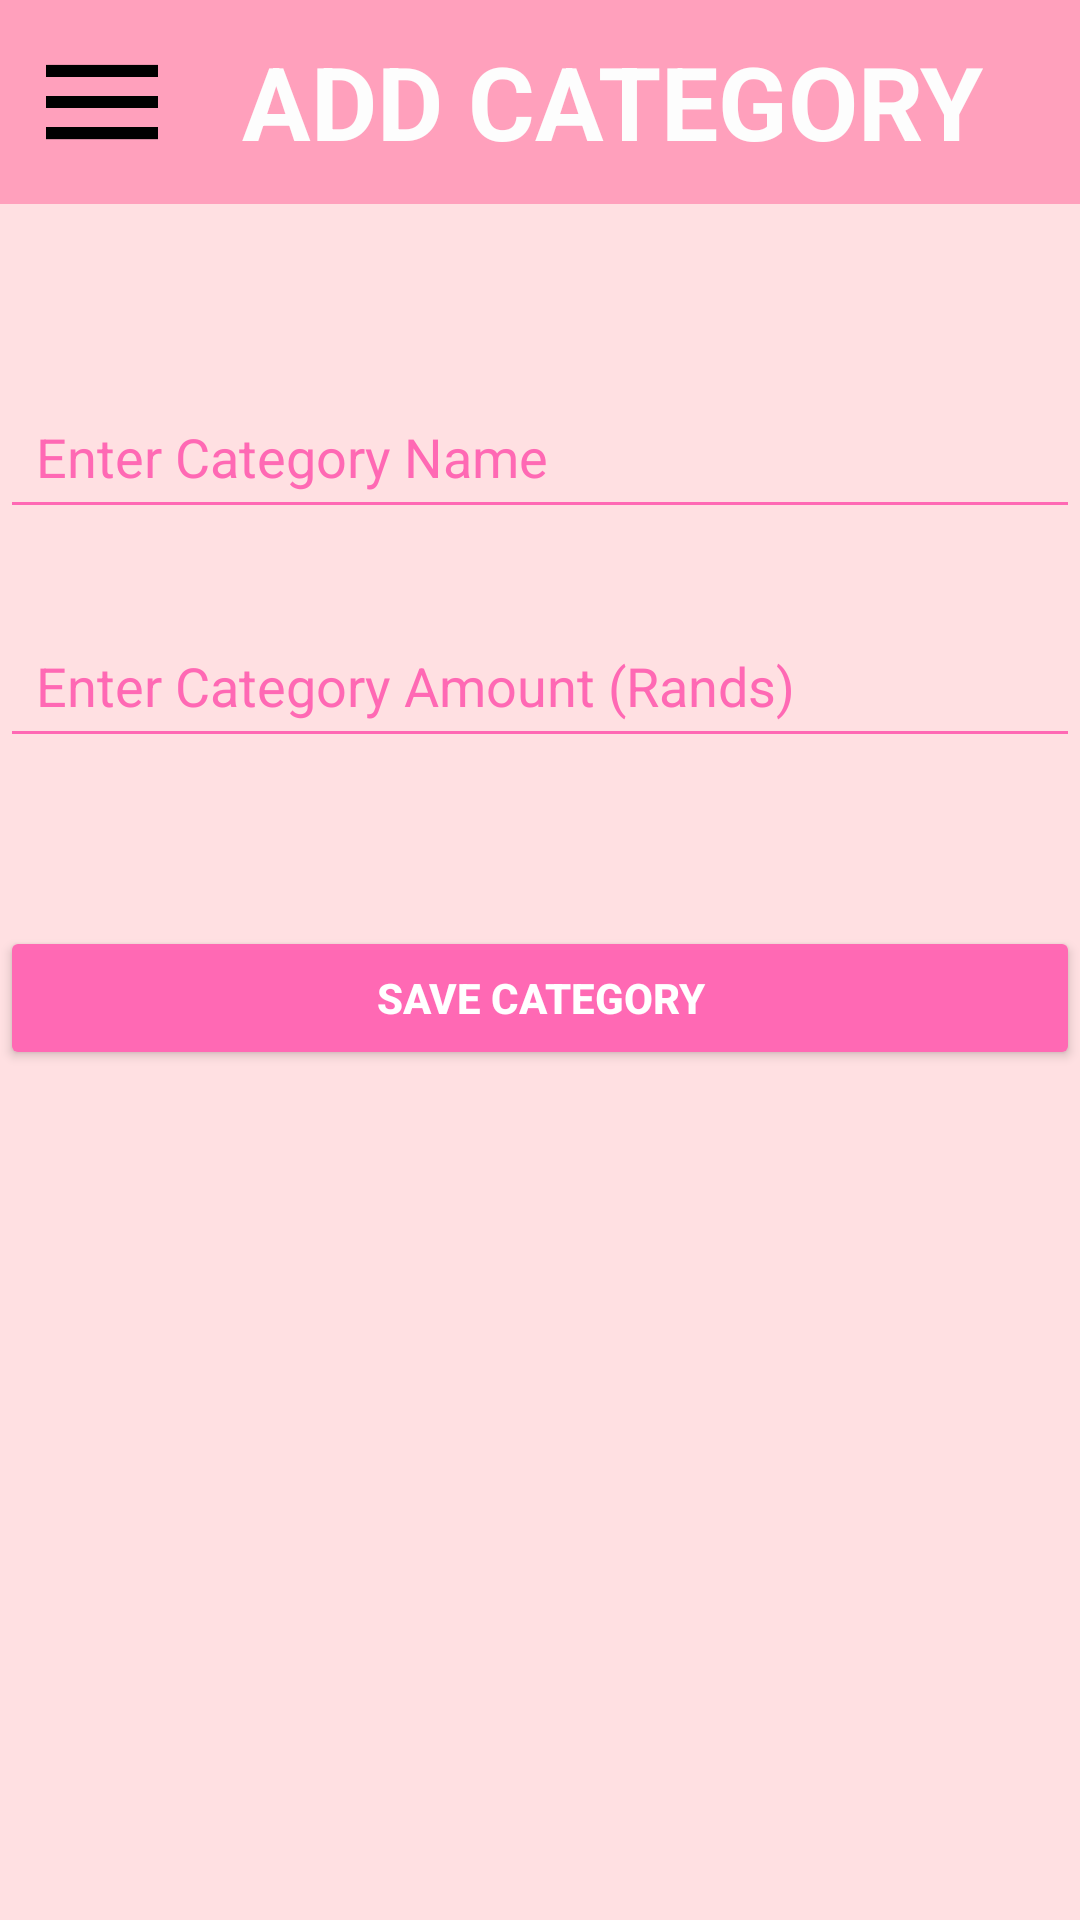

Icon bounding boxes for this 1080w x 1920h phone screenshot, format (x1,y1,x2,y2):
Menu: (46,65,158,140)
